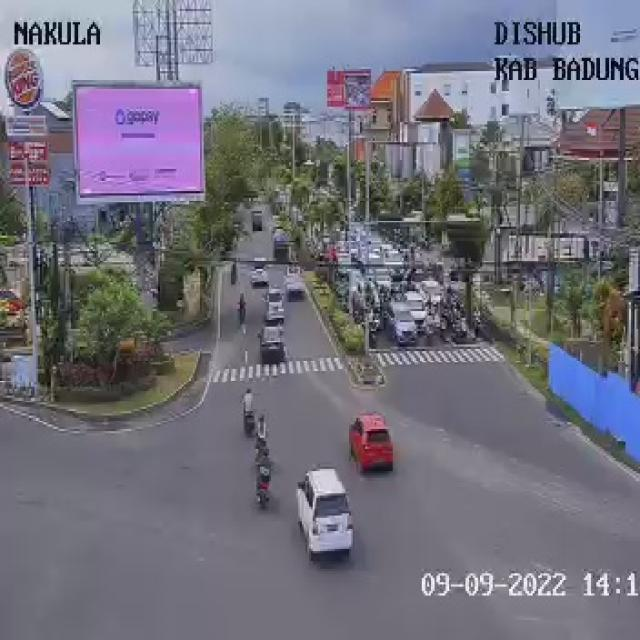car: (348, 225, 405, 327), (296, 468, 352, 558), (349, 412, 394, 471), (392, 302, 416, 346), (260, 326, 286, 363), (349, 269, 365, 321), (405, 291, 428, 326), (285, 266, 305, 301), (265, 288, 284, 322), (272, 229, 289, 263), (421, 280, 444, 304), (369, 269, 390, 288), (384, 244, 402, 266), (404, 291, 424, 310), (250, 269, 269, 288), (254, 256, 268, 268), (369, 253, 380, 260)
motorcyclist: (255, 415, 271, 508), (242, 389, 256, 437), (238, 294, 246, 324), (252, 211, 262, 231), (230, 262, 238, 284)
